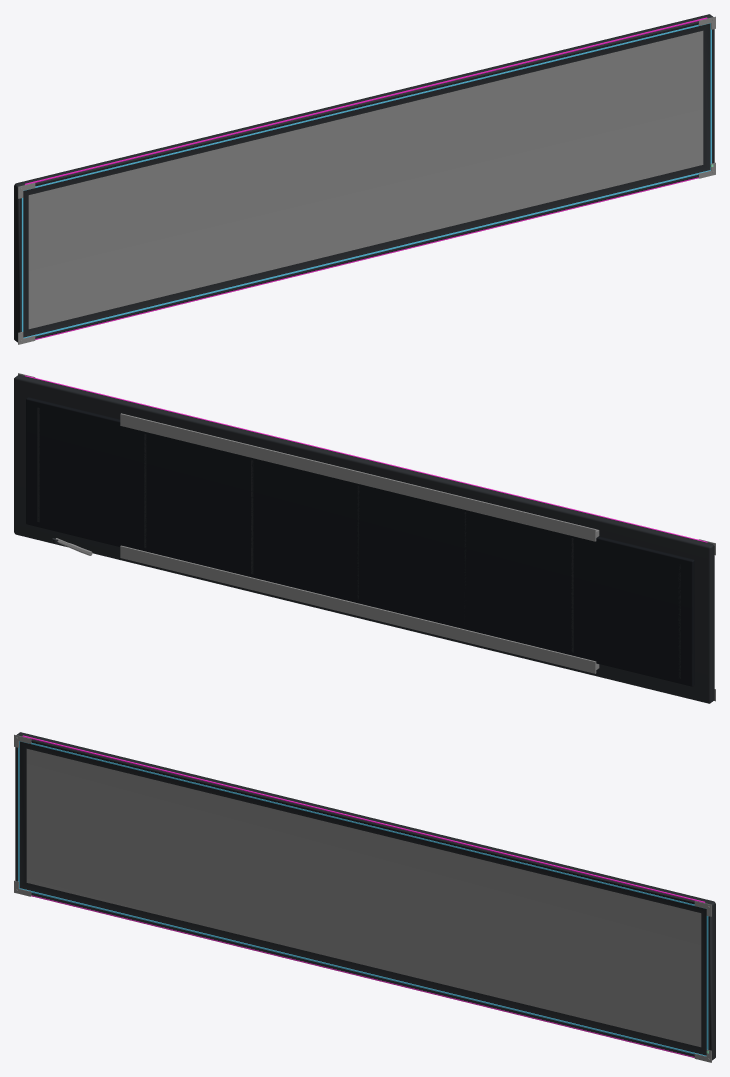
File: Sign_Panel_M.fbx
3 renders of one model, top to bottom at view 1: azimuth 30°, elevation 25°; view 2: azimuth 150°, elevation 25°; view 3: azimuth 330°, elevation 25°, orthographic.
Parts seen in each view (by area): view 1: Sign_Panel_M_LOD0; view 2: Sign_Panel_M_LOD0; view 3: Sign_Panel_M_LOD0.
Boxes of the visible parts, x1=… form: Sign_Panel_M_LOD0: x1=14, y1=14, x2=715, y2=344; Sign_Panel_M_LOD0: x1=14, y1=373, x2=715, y2=703; Sign_Panel_M_LOD0: x1=14, y1=732, x2=715, y2=1062.
Size of what is drawn, in the model's own units: 3.7 by 0.801 by 0.0898.
